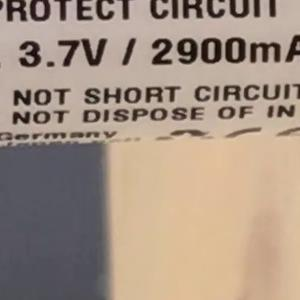3.7V: (9, 28, 116, 78)
